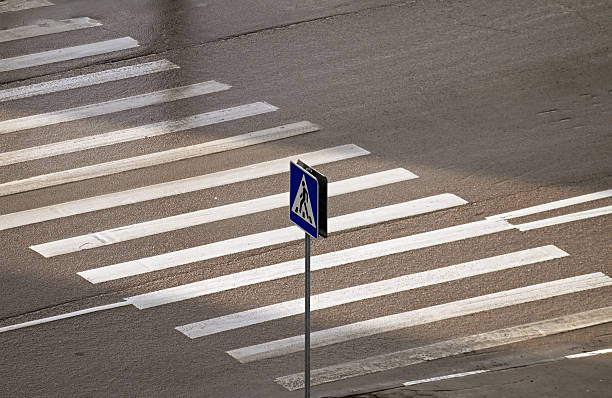yaya_gecidi: (289, 162, 325, 240)
